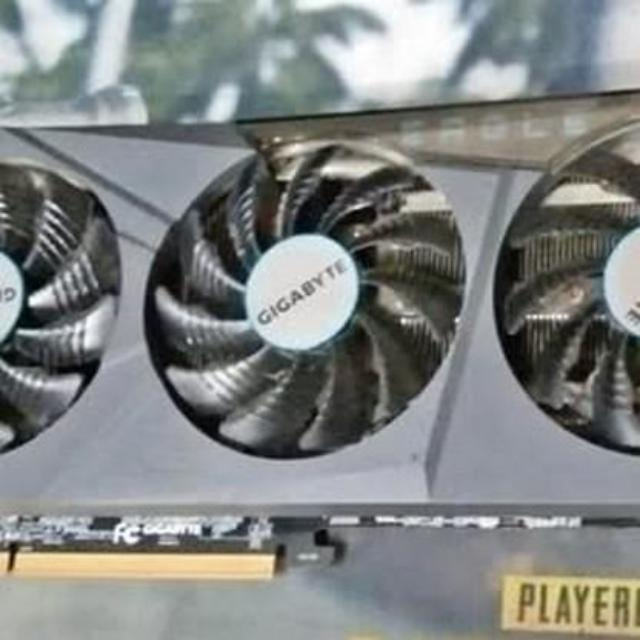GPU: (0, 96, 640, 602)
